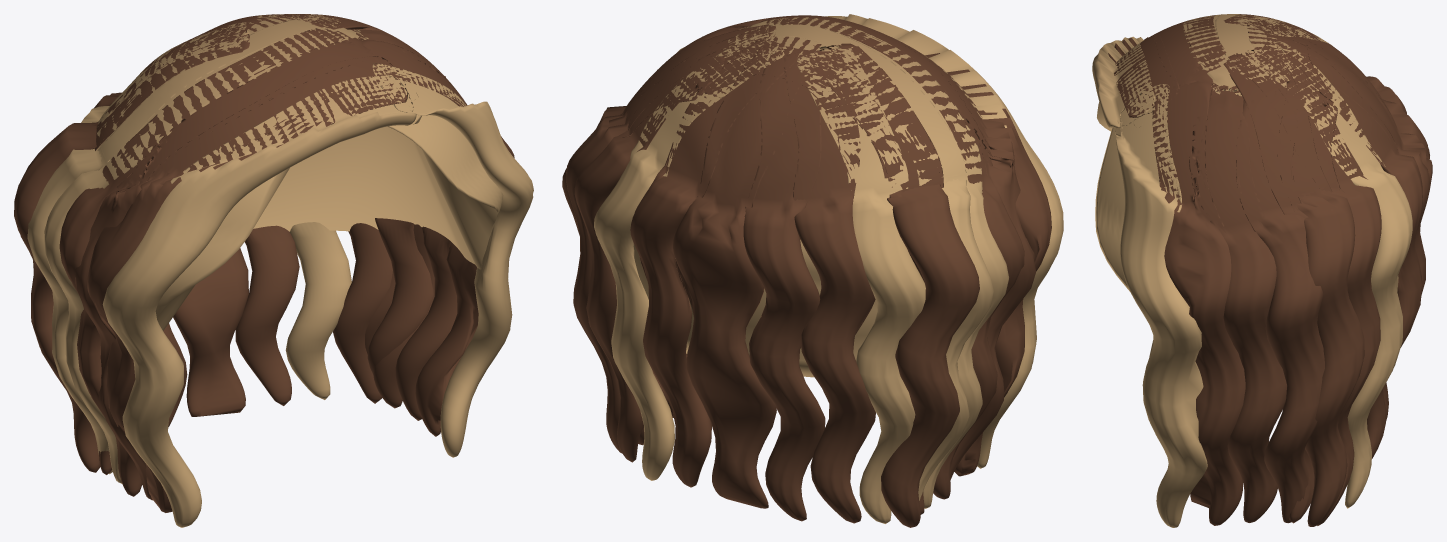
The model's file is Highlights-6d1b0d408ad0251-hair.glb.
The picture shows the model from 3 angles, left to right: view 1: azimuth 30°, elevation 25°; view 2: azimuth 150°, elevation 25°; view 3: azimuth 270°, elevation 25°; orthographic projection. The views are drawn at different scales.
Parts seen in each view (by area): view 1: 226 hair / Hair / sculpted 0.004, 226 hair / Hair / sculpted 1.008, 226 hair / Hair / sculpted 2.004, 226 hair / Hair / sculpted 1.007; view 2: 226 hair / Hair / sculpted 0.004, 226 hair / Hair / sculpted 2.004, 226 hair / Hair / sculpted 1.008, 226 hair / Hair / sculpted 1.007; view 3: 226 hair / Hair / sculpted 1.008, 226 hair / Hair / sculpted 2.004, 226 hair / Hair / sculpted 0.004, 226 hair / Hair / sculpted 1.007.
Boxes of the visible parts, x1,y1,x2,y2 form: 226 hair / Hair / sculpted 0.004: (14,14,457,527); 226 hair / Hair / sculpted 1.008: (44,14,533,512); 226 hair / Hair / sculpted 2.004: (27,14,514,500); 226 hair / Hair / sculpted 1.007: (155,115,503,330); 226 hair / Hair / sculpted 0.004: (594,14,1063,527); 226 hair / Hair / sculpted 2.004: (566,15,1036,523); 226 hair / Hair / sculpted 1.008: (562,15,1051,523); 226 hair / Hair / sculpted 1.007: (633,239,877,377); 226 hair / Hair / sculpted 1.008: (1108,14,1422,527); 226 hair / Hair / sculpted 2.004: (1129,14,1432,526); 226 hair / Hair / sculpted 0.004: (1092,14,1429,522); 226 hair / Hair / sculpted 1.007: (1095,102,1398,291).
Bounding box in the file's own units: 1.13 × 1.09 × 0.7898.
